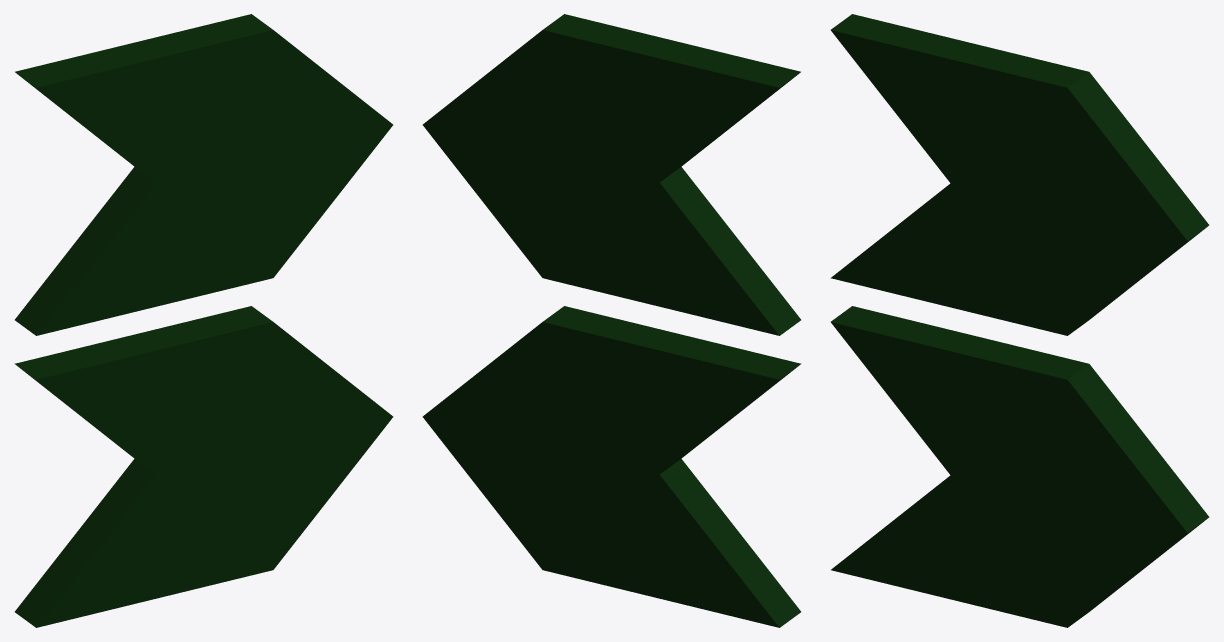
File: FlecheDirection.fbx
The picture shows the model from 3 angles, left to right: view 1: azimuth 30°, elevation 25°; view 2: azimuth 150°, elevation 25°; view 3: azimuth 330°, elevation 25°; orthographic projection.
Visible parts, largest first — view 1: FlecheVerte.001; view 2: FlecheVerte.001; view 3: FlecheVerte.001.
Boxes of the visible parts, box(x1,y1,x2,y2) form: FlecheVerte.001: box(14, 14, 393, 627); FlecheVerte.001: box(422, 14, 801, 627); FlecheVerte.001: box(830, 14, 1209, 627).
Bounding box in the file's own units: 140 × 14.8 × 202.
